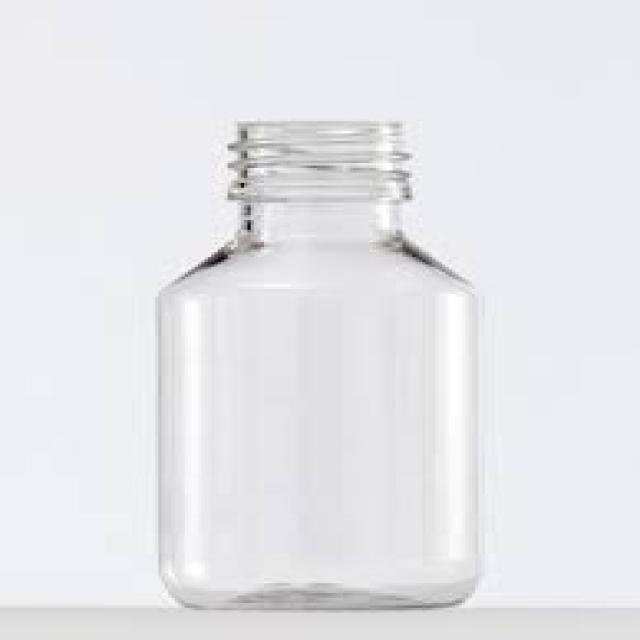bottle: (159, 122, 478, 607)
